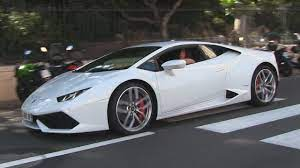Lamborghini: (26, 46, 278, 128)
